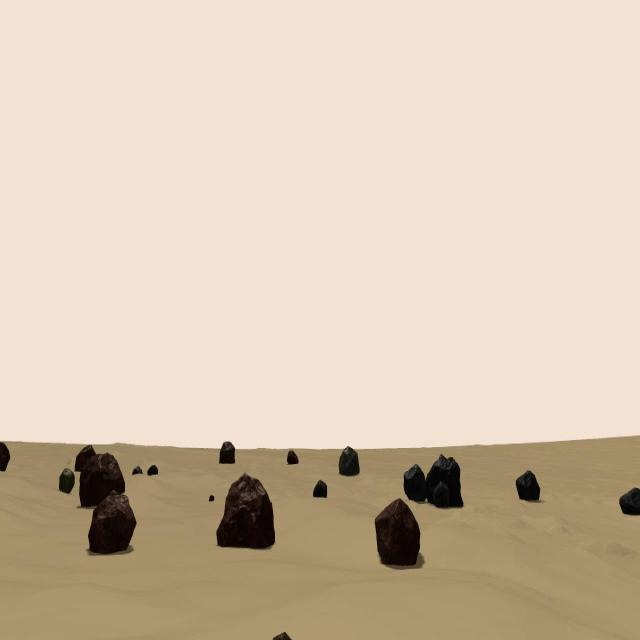rock: (217, 472, 275, 548), (88, 491, 137, 555), (374, 497, 420, 565), (79, 452, 125, 503), (425, 454, 464, 508), (404, 464, 425, 502), (516, 469, 540, 502), (338, 446, 360, 478), (75, 444, 96, 474), (619, 486, 640, 515), (59, 468, 76, 494), (220, 440, 235, 464), (0, 439, 11, 471), (313, 479, 327, 498), (286, 449, 298, 466), (274, 630, 291, 640), (146, 464, 158, 477), (132, 465, 142, 475), (208, 494, 214, 502)
